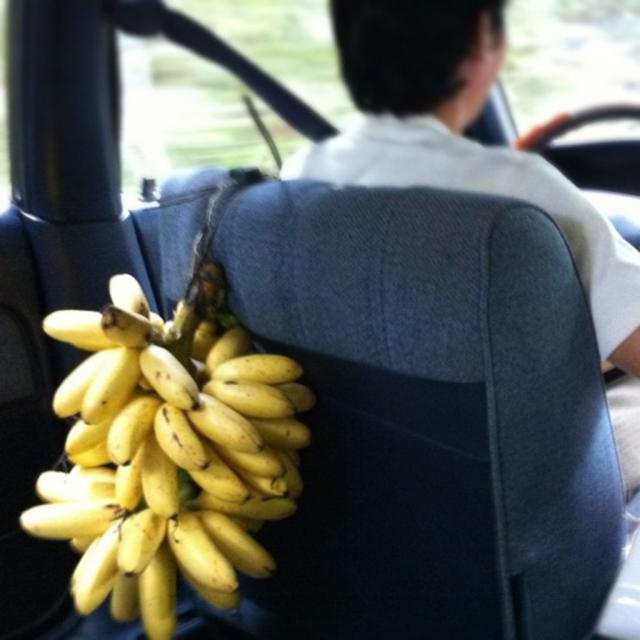Banana: (26, 273, 323, 610)
